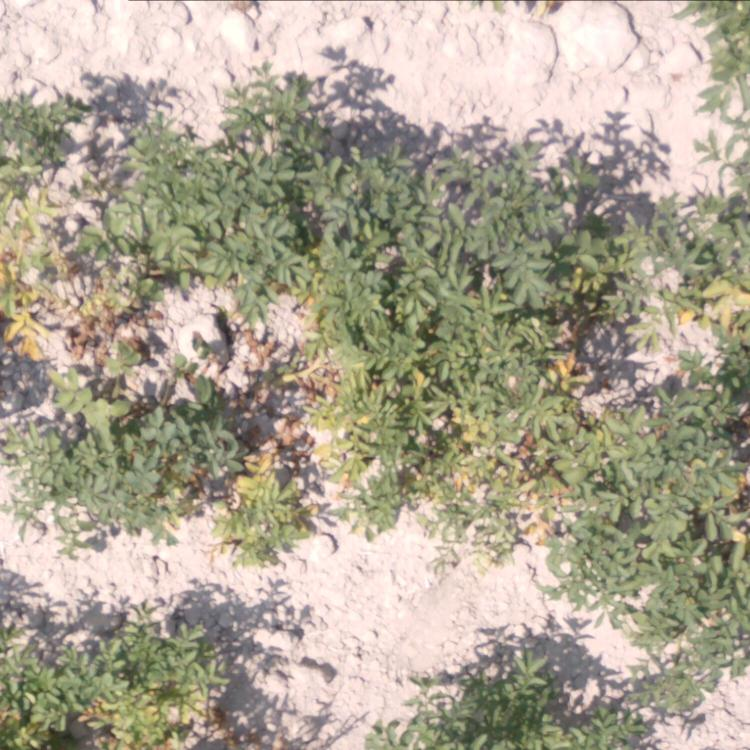healthy: (137, 87, 332, 292), (336, 119, 499, 335), (606, 363, 743, 562), (5, 387, 220, 513), (503, 123, 626, 266), (495, 633, 630, 750), (637, 578, 740, 713), (678, 2, 750, 127), (365, 677, 483, 750), (541, 505, 610, 605)
stressed: (1, 116, 133, 381), (1, 610, 236, 744), (229, 320, 336, 602), (346, 350, 502, 531), (631, 189, 750, 351), (510, 275, 602, 470)
